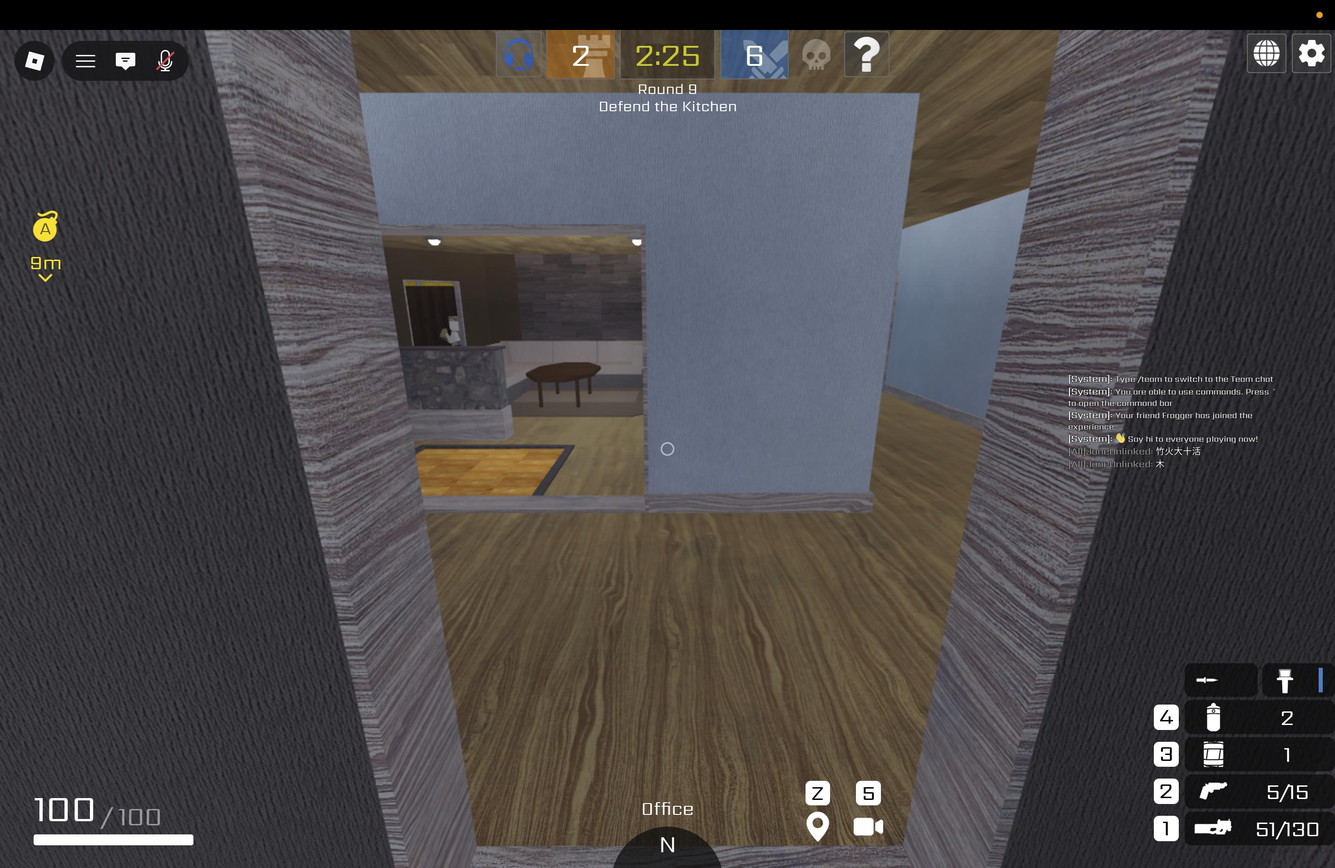enemy: (438, 314, 464, 346)
